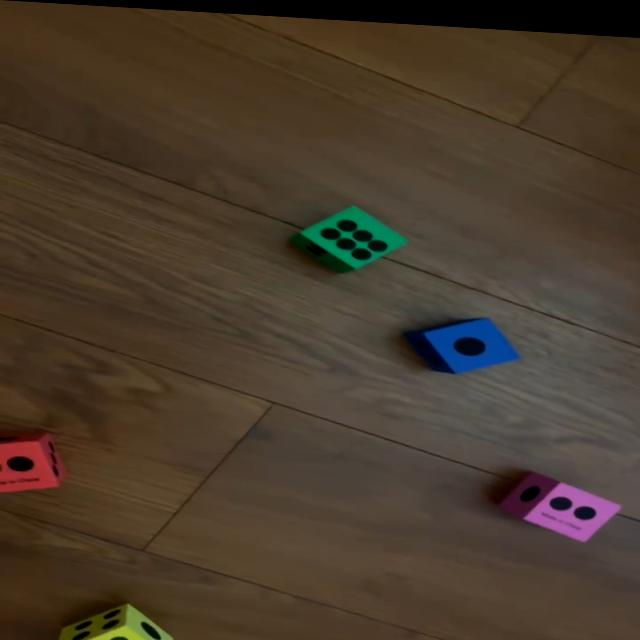cube: (291, 199, 407, 270), (409, 306, 521, 369), (0, 428, 64, 495)
